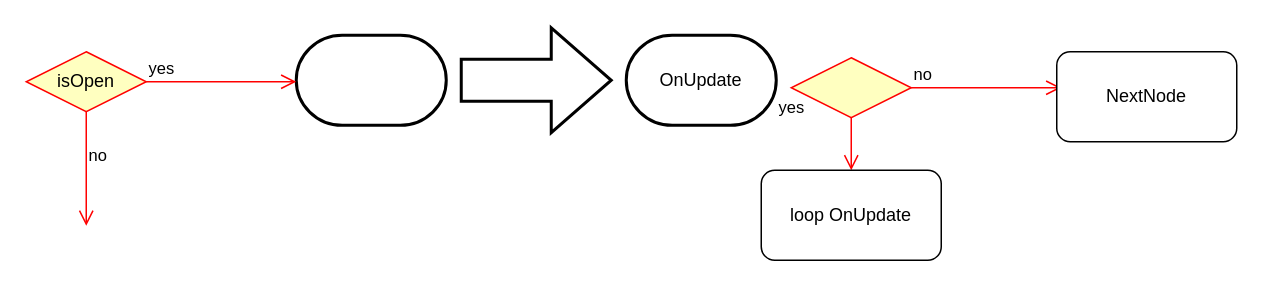
The diagram is 1263 pixels wide and 287 high, and some of its shapes have lost their labels. The shapes that lost their labels are listed below. From the top down, each one's box as (x1, y1, x2, y2) in pixels, then its label:
(294, 33, 447, 126): OnOpen
(790, 56, 911, 118): isRunning
